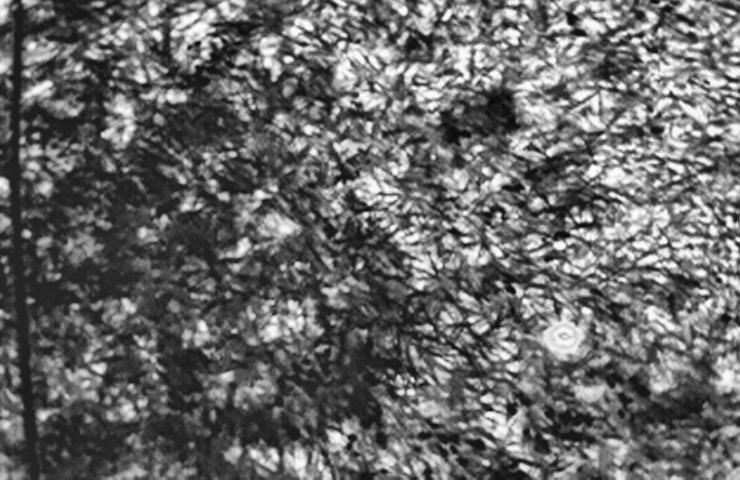landmines: (543, 319, 587, 361)
